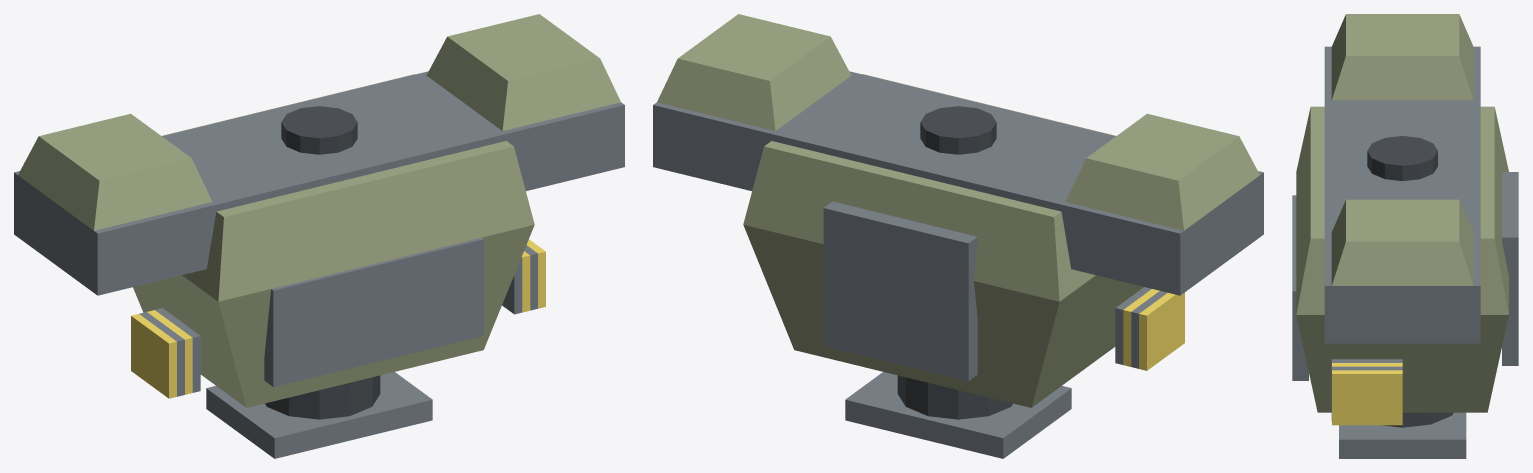
File: mech-hangar-and-battle-frames-assault-torso-c845882b__26790.glb
3 views of the same model, side by side, from view 1: azimuth 30°, elevation 25°; view 2: azimuth 150°, elevation 25°; view 3: azimuth 270°, elevation 25° (orthographic). The views are drawn at different scales.
Visible parts, largest first — view 1: assault-torso; view 2: assault-torso; view 3: assault-torso.
Part boxes in pixels (bbox=[...]): assault-torso: bbox=[14, 14, 624, 458]; assault-torso: bbox=[653, 14, 1263, 458]; assault-torso: bbox=[1292, 14, 1518, 458].
Size of the model in its own units: 4 by 2.3 by 1.6.
